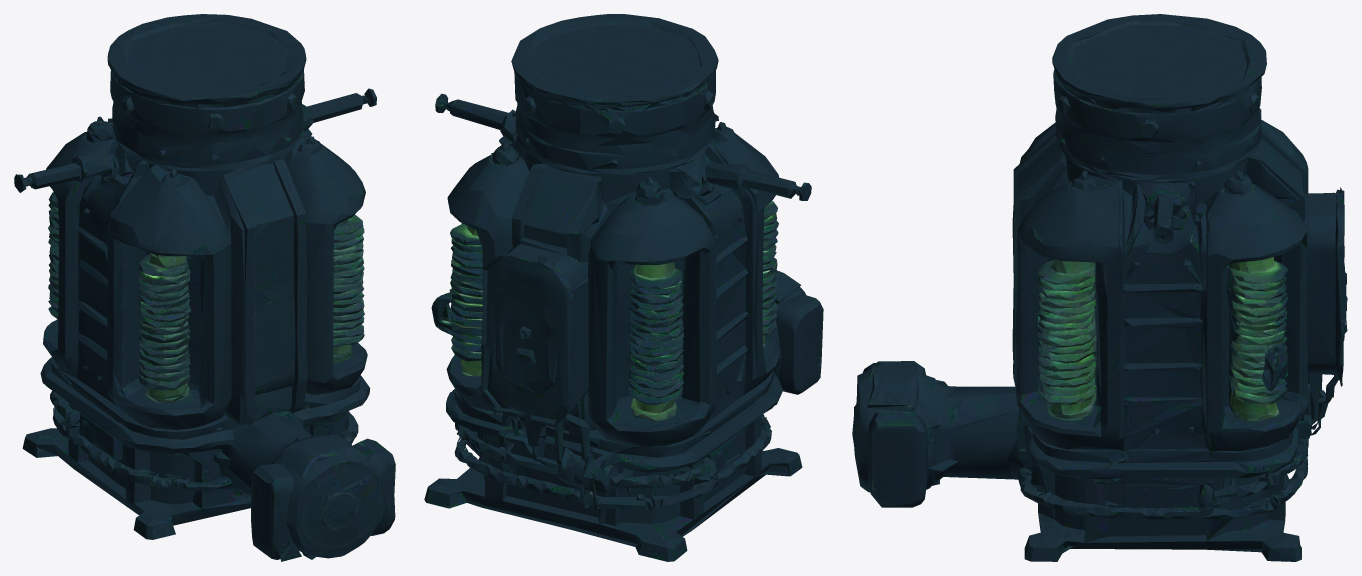
Rendered from reactor-tower.glb.
3 renders of one model, left to right at view 1: azimuth 30°, elevation 25°; view 2: azimuth 150°, elevation 25°; view 3: azimuth 270°, elevation 25°, orthographic. The views are drawn at different scales.
Parts seen in each view (by area): view 1: mesh_node; view 2: mesh_node; view 3: mesh_node.
Part boxes in pixels (box(x1,y1,x2,y2)): mesh_node: box(14, 14, 395, 561); mesh_node: box(424, 14, 823, 561); mesh_node: box(852, 14, 1347, 561).
Size of the model in its own units: 1.7 by 1.87 by 1.9.
Materials: 1 (1 with a texture image).
